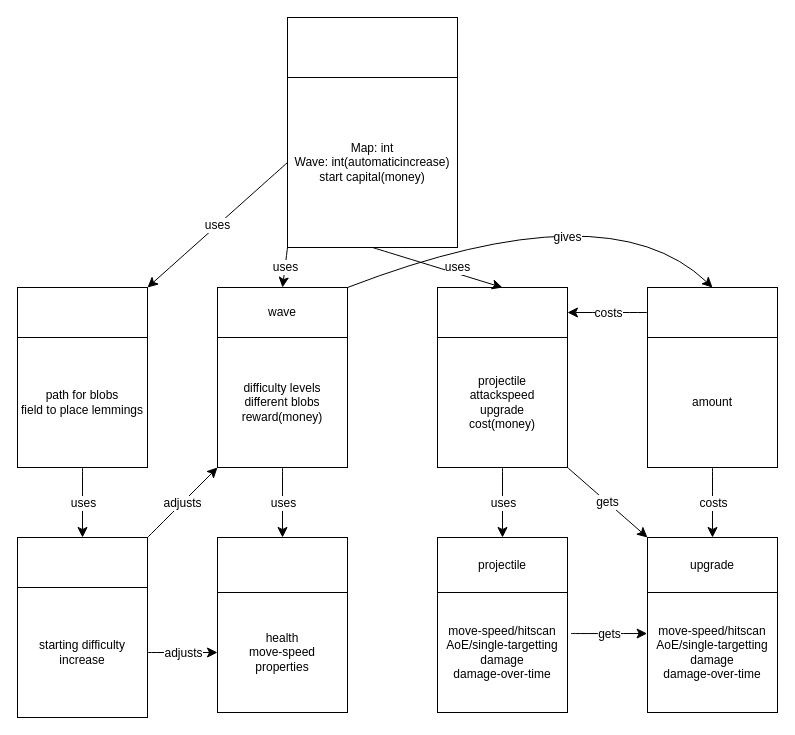
Some shapes in this 795 by 735 pixel diagram are drawn without their labels. Each missing label, with the centre of its shape:
"blobs" belongs at point (282, 564).
"Game" belongs at point (372, 47).
"lemming" belongs at point (502, 312).
"level" belongs at point (82, 562).
"map" belongs at point (82, 312).
"money" belongs at point (712, 312).
